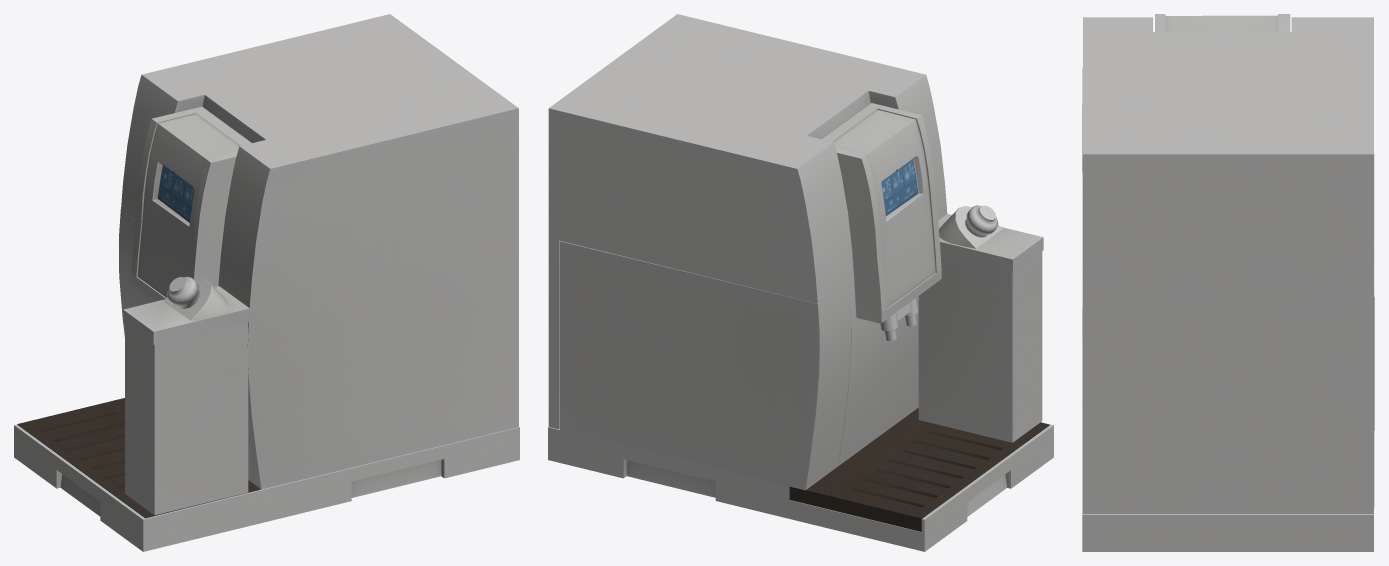
File: SM_CoffeeMachine_A1.fbx
The picture shows the model from 3 angles, left to right: view 1: azimuth 30°, elevation 25°; view 2: azimuth 150°, elevation 25°; view 3: azimuth 270°, elevation 25°; orthographic projection. The views are drawn at different scales.
Parts seen in each view (by area): view 1: SM_CoffeeMachine_A1; view 2: SM_CoffeeMachine_A1; view 3: SM_CoffeeMachine_A1.
Part boxes in pixels (bbox=[...]): SM_CoffeeMachine_A1: bbox=[14, 14, 519, 551]; SM_CoffeeMachine_A1: bbox=[548, 14, 1053, 551]; SM_CoffeeMachine_A1: bbox=[1082, 14, 1374, 551].
Bounding box in the file's own units: 36.74 × 21.87 × 32.79.
Materials: 1 (1 with a texture image).
